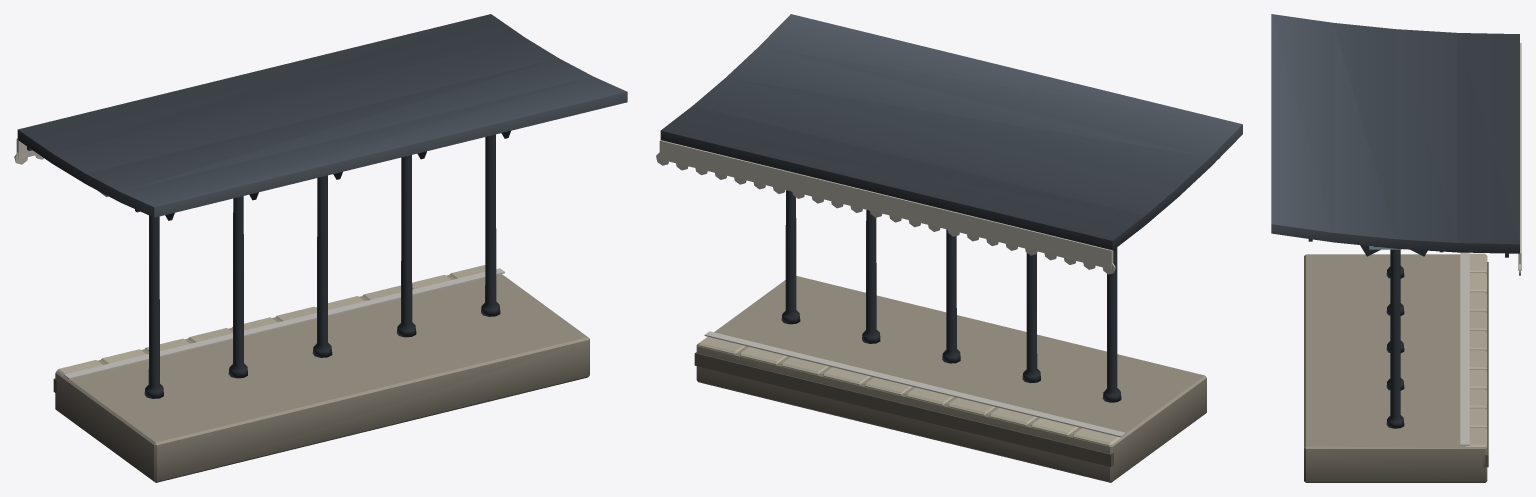
File: platform-canopy.glb
The picture shows the model from 3 angles, left to right: view 1: azimuth 30°, elevation 25°; view 2: azimuth 150°, elevation 25°; view 3: azimuth 270°, elevation 25°; orthographic projection. The views are drawn at different scales.
Visible parts, largest first — view 1: platform_canopy; view 2: platform_canopy; view 3: platform_canopy.
Boxes of the visible parts, left/top/right/bottom form: platform_canopy: left=14, top=14, right=627, bottom=482; platform_canopy: left=656, top=14, right=1242, bottom=482; platform_canopy: left=1271, top=14, right=1521, bottom=482.
Bounding box in the file's own units: 7.71 × 4.52 × 3.82.
